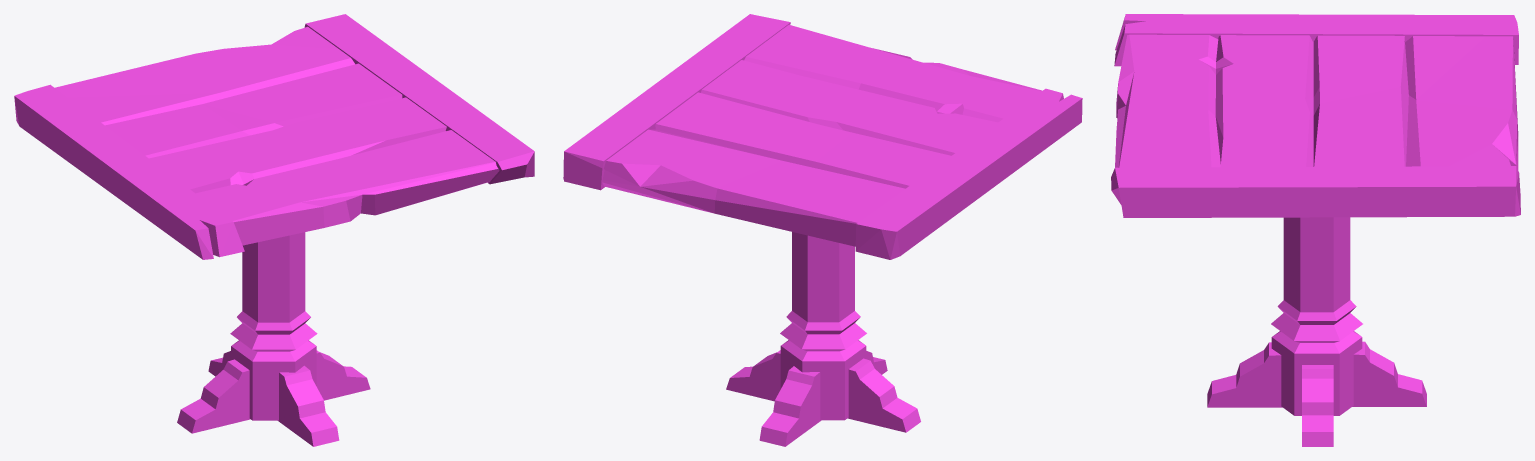
Rendered from SM_Table_Fancy_Square_A_Fantasy.fbx.
The picture shows the model from 3 angles, left to right: view 1: azimuth 30°, elevation 25°; view 2: azimuth 150°, elevation 25°; view 3: azimuth 270°, elevation 25°; orthographic projection. The views are drawn at different scales.
Parts seen in each view (by area): view 1: SM_Table_Fancy_Square_A_Fantasy; view 2: SM_Table_Fancy_Square_A_Fantasy; view 3: SM_Table_Fancy_Square_A_Fantasy.
Boxes of the visible parts, x1,y1,x2,y2 form: SM_Table_Fancy_Square_A_Fantasy: [14, 14, 534, 446]; SM_Table_Fancy_Square_A_Fantasy: [563, 14, 1082, 446]; SM_Table_Fancy_Square_A_Fantasy: [1111, 14, 1520, 446].
Bounding box in the file's own units: 1 × 0.803 × 0.996.
